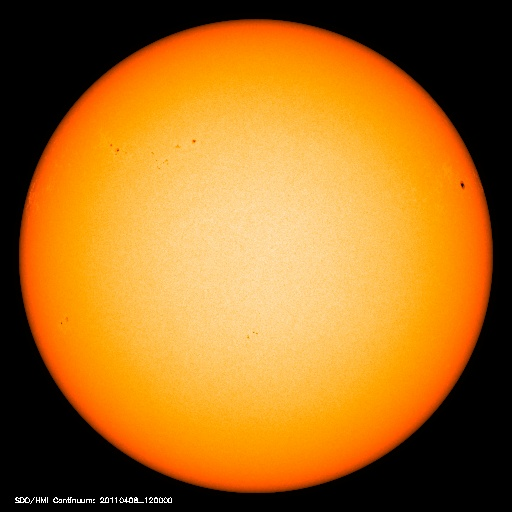sunspot: (103, 134, 204, 169), (446, 173, 481, 198)
